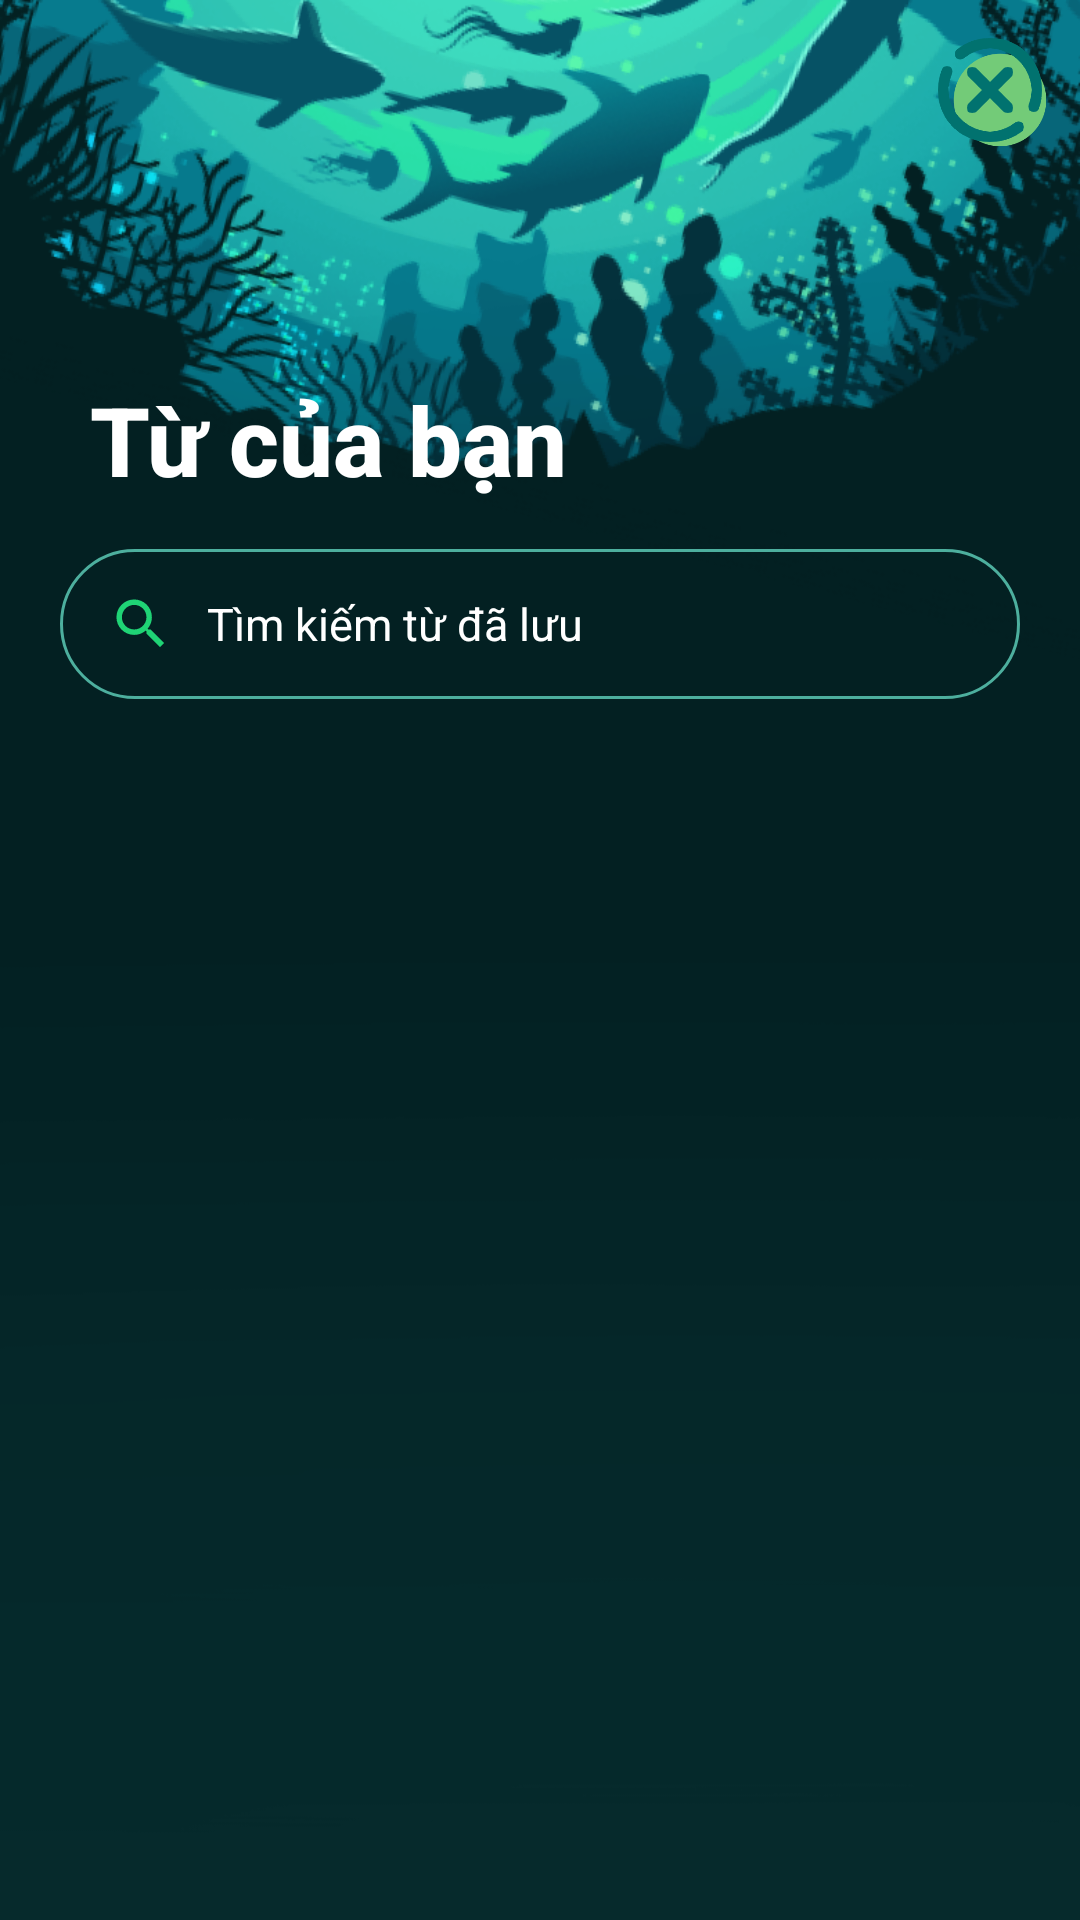

Icon click points for this 1080px×1920px phone screenshot, format point (x, y):
cancel: point (990, 90)
